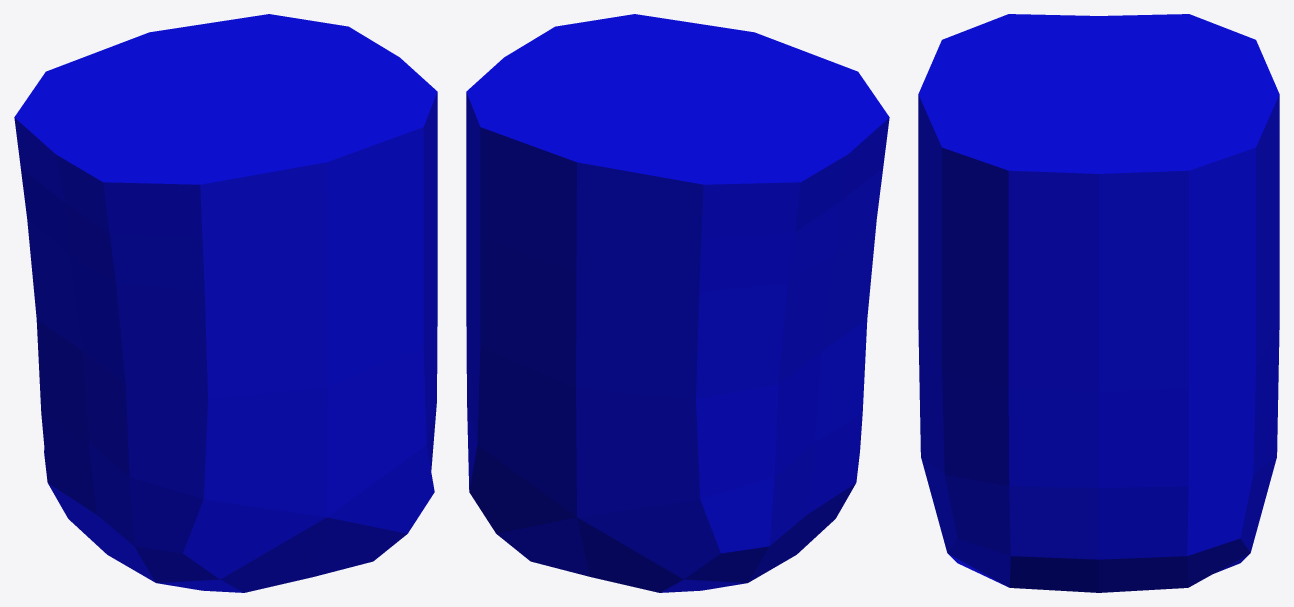
Rendered from eau.fbx.
3 renders of one model, left to right at view 1: azimuth 30°, elevation 25°; view 2: azimuth 150°, elevation 25°; view 3: azimuth 270°, elevation 25°, orthographic.
Parts seen in each view (by area): view 1: Eau; view 2: Eau; view 3: Eau.
Part boxes in pixels (left/top/right/bottom): Eau: left=14, top=14, right=437, bottom=592; Eau: left=466, top=14, right=889, bottom=592; Eau: left=918, top=14, right=1279, bottom=592.
Size of the model in its own units: 23.62 by 29.56 by 21.1.
